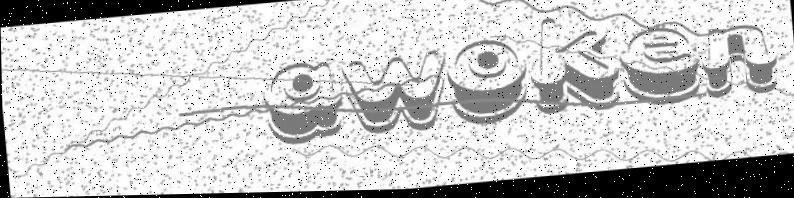a: (260, 60, 347, 150)
e: (616, 28, 703, 112)
k: (524, 14, 622, 121)
n: (698, 25, 780, 102)
o: (442, 38, 532, 132)
w: (339, 51, 449, 141)
